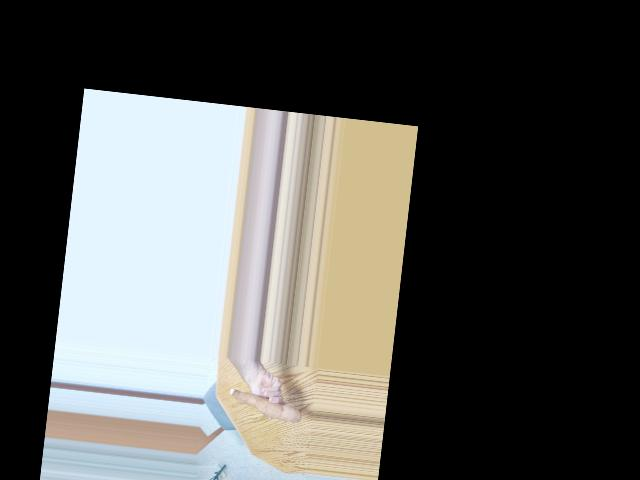sweet_potato: (227, 383, 302, 426)
